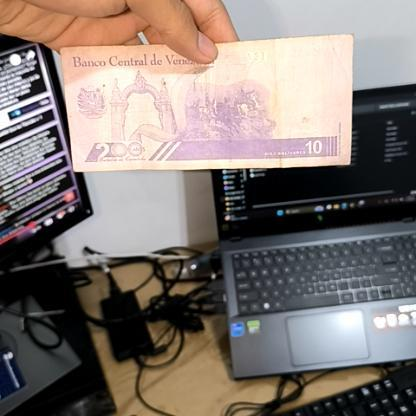vef_back: (56, 34, 353, 173)
